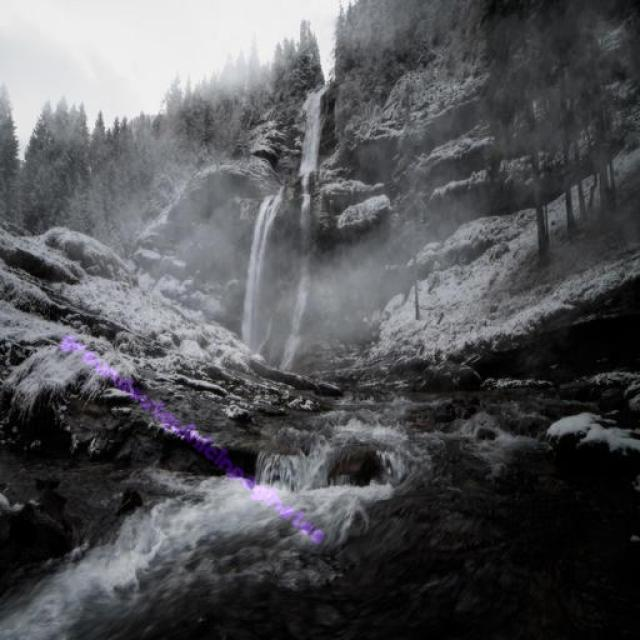watermark: (54, 326, 334, 549)
